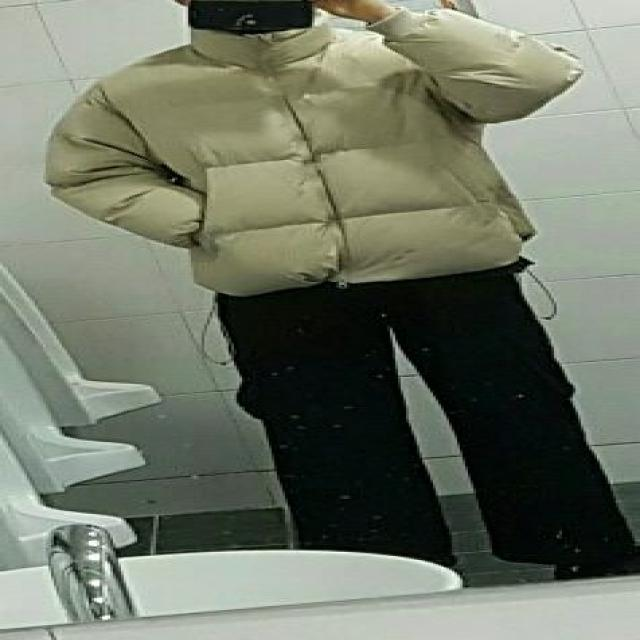padding: (42, 10, 584, 295)
trainingpants: (209, 273, 640, 570)
